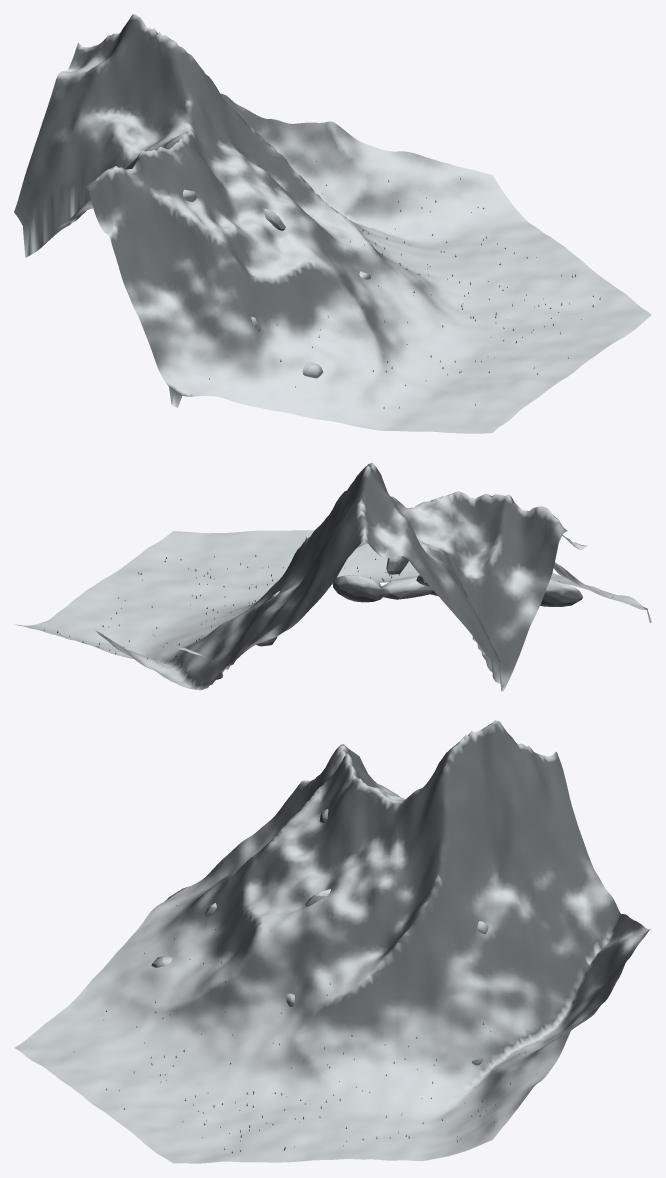
3 views of the same model, one above another, from view 1: azimuth 30°, elevation 25°; view 2: azimuth 150°, elevation 25°; view 3: azimuth 270°, elevation 25° (orthographic).
Parts seen in each view (by area): view 1: terrain_v10, supported_bedrock; view 2: terrain_v10, supported_bedrock; view 3: terrain_v10, supported_bedrock.
Part boxes in pixels (<box>): terrain_v10: <box>14,14,651,433</box>; supported_bedrock: <box>183,189,370,378</box>; terrain_v10: <box>15,462,651,691</box>; supported_bedrock: <box>175,555,582,679</box>; terrain_v10: <box>14,720,650,1163</box>; supported_bedrock: <box>151,809,488,1065</box>.
Size of the model in its own units: 4330 by 2362 by 5000.
Materials: 3 (2 with a texture image).
